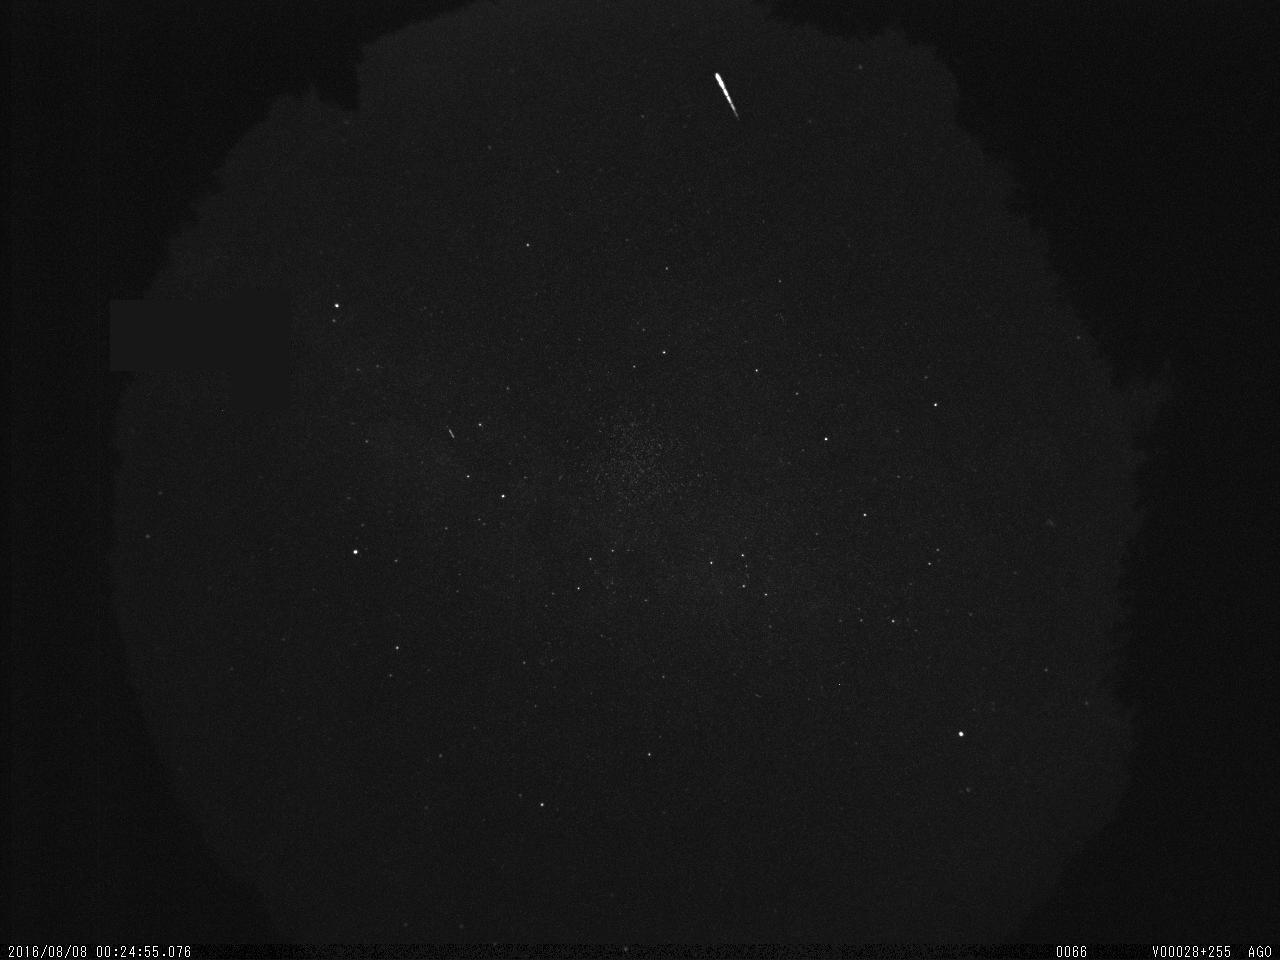meteor: (690, 62, 766, 136)
